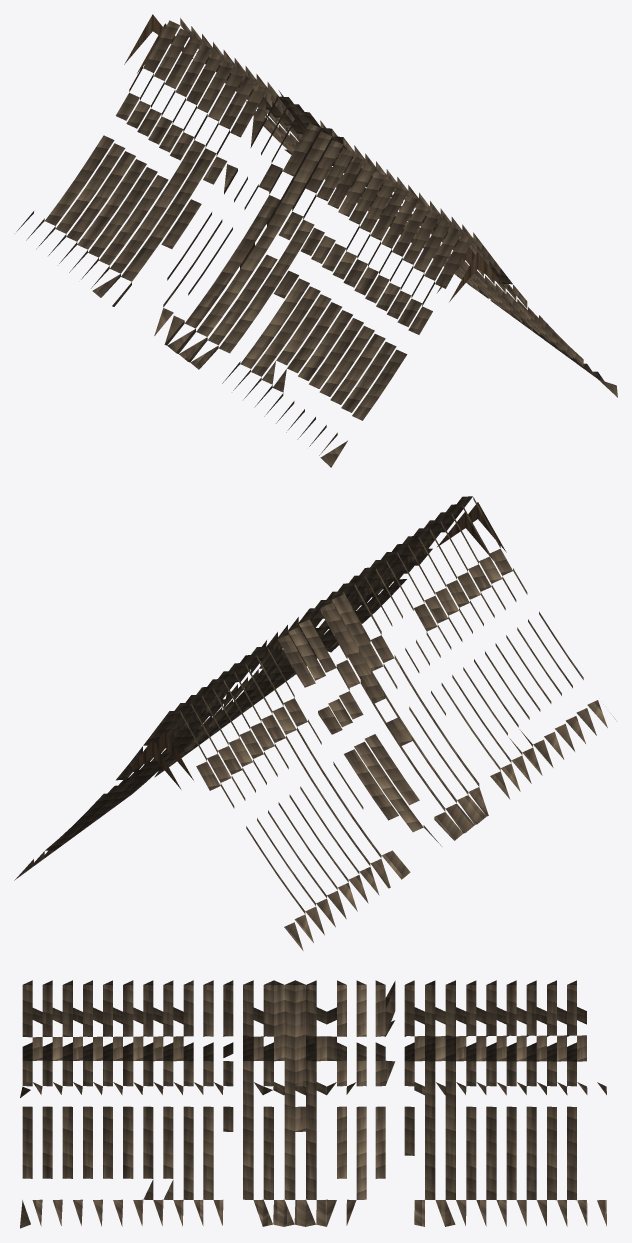
The model's file is Roof_Shingle_6x14_LOD1.gltf.
3 views of the same model, one above another, from view 1: azimuth 30°, elevation 25°; view 2: azimuth 150°, elevation 25°; view 3: azimuth 270°, elevation 25° (orthographic). The views are drawn at different scales.
Visible parts, largest first — view 1: Roof_Shingle_6x14_LOD1; view 2: Roof_Shingle_6x14_LOD1; view 3: Roof_Shingle_6x14_LOD1.
Boxes of the visible parts, <box> form: Roof_Shingle_6x14_LOD1: <box>16,14,617,467</box>; Roof_Shingle_6x14_LOD1: <box>14,496,615,950</box>; Roof_Shingle_6x14_LOD1: <box>20,980,606,1228</box>.
Bounding box in the file's own units: 8.25 × 5.17 × 15.66.
Materials: 2 (2 with a texture image).
